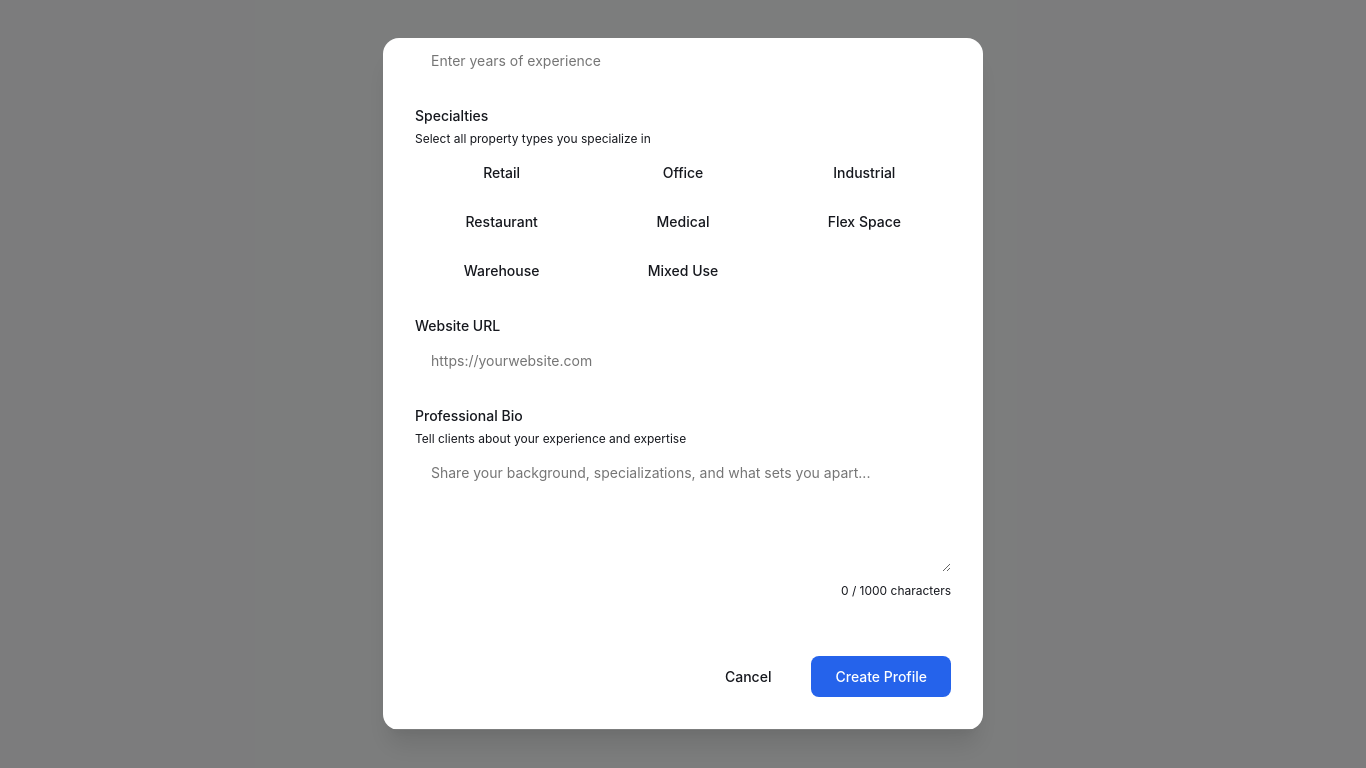
Test: BrokerProfileModal › Create Mode › validates required company name field
(page scrolled)
Click the button "Create Profile".
click(881, 677)  # box [812,656,951,697]
(page scrolled)
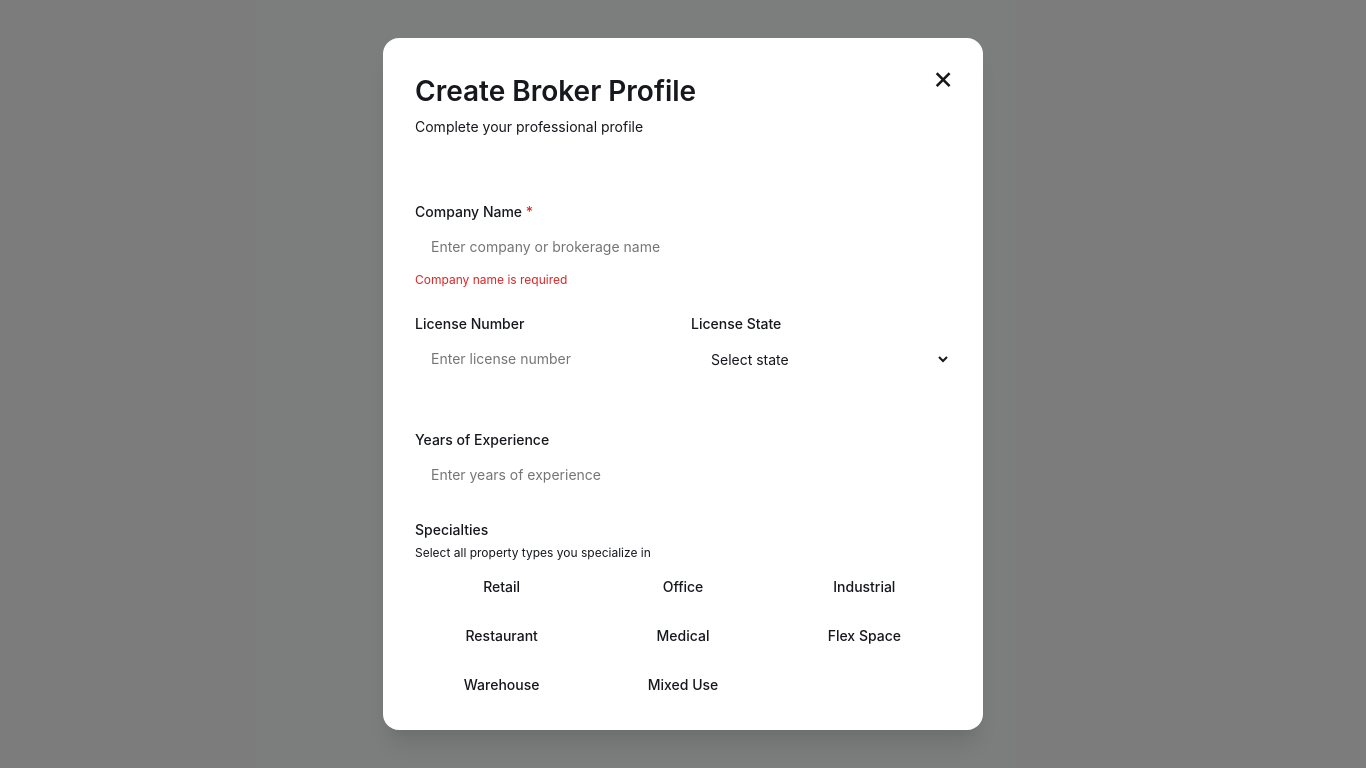
Now the text "Company name is required" is shown, box [415,272,567,287]
